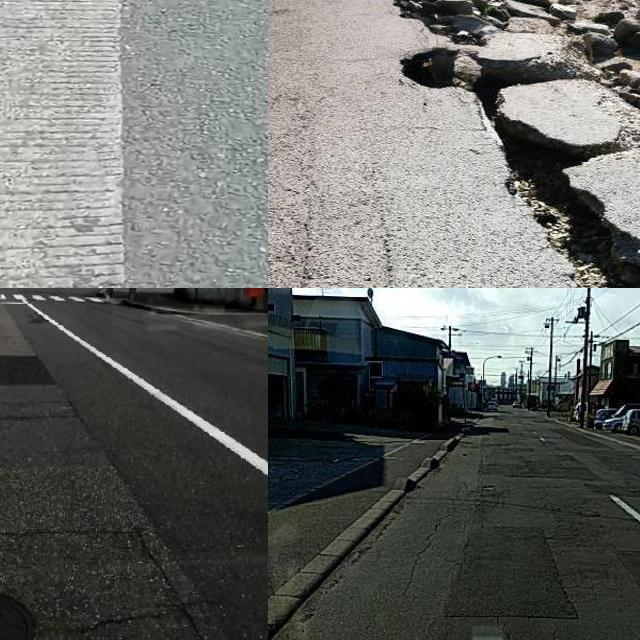Pinggir: (342, 0, 640, 288)
Sambungan: (12, 317, 268, 640), (0, 0, 124, 288), (446, 521, 574, 615)
